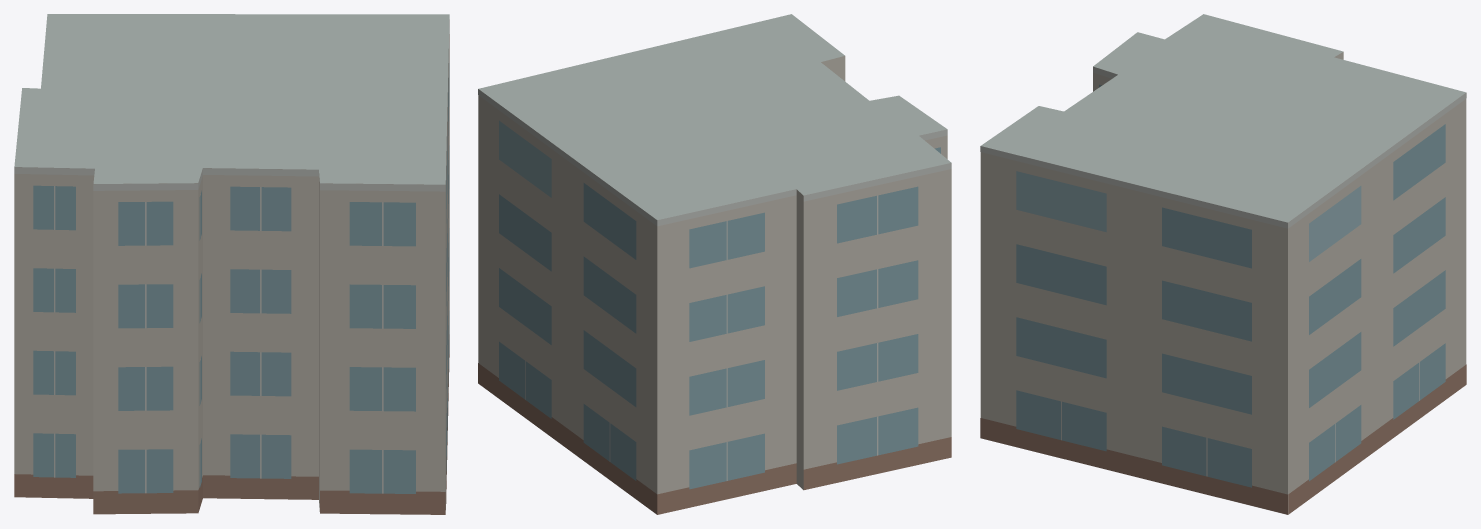
File: survey-upis-32743266.glb
3 views of the same model, side by side, from view 1: azimuth 30°, elevation 25°; view 2: azimuth 150°, elevation 25°; view 3: azimuth 270°, elevation 25° (orthographic). The views are drawn at different scales.
Parts seen in each view (by area): view 1: survey-upis-32743266.tmp; view 2: survey-upis-32743266.tmp; view 3: survey-upis-32743266.tmp.
Part boxes in pixels (x1,y1,x2,y2): survey-upis-32743266.tmp: (14, 14, 449, 514); survey-upis-32743266.tmp: (478, 14, 951, 514); survey-upis-32743266.tmp: (980, 14, 1466, 514).
Size of the model in its own units: 17.99 by 11.75 by 17.71.
